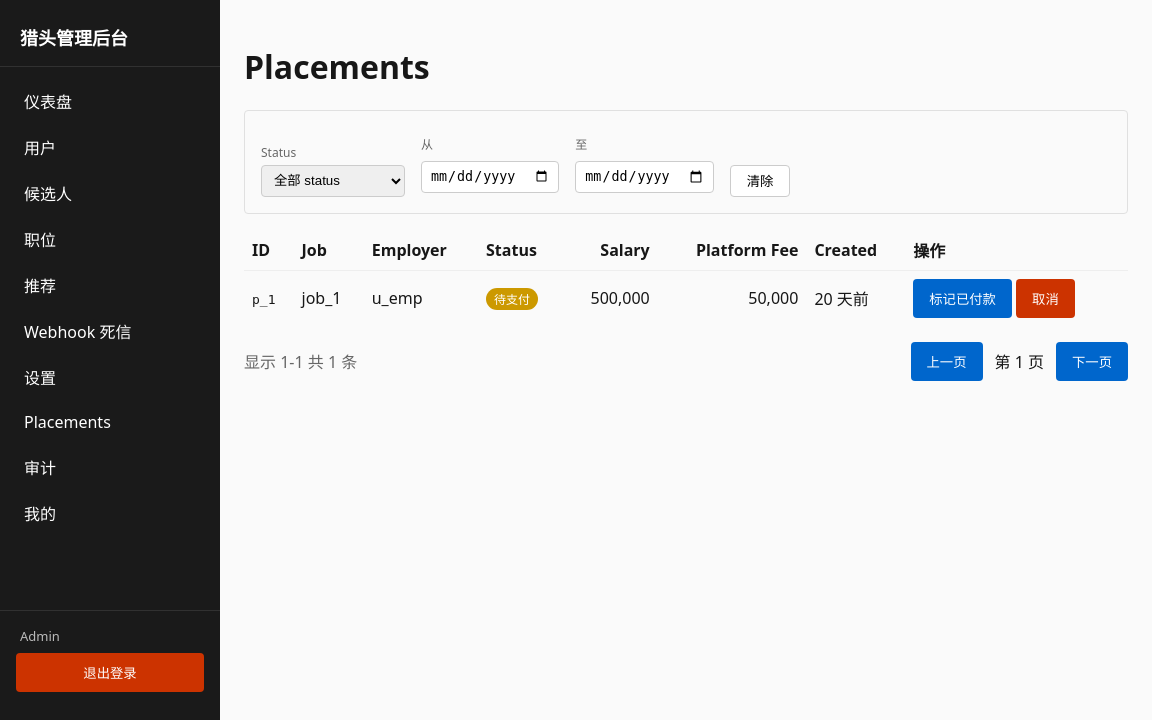
Scenario: PlacementsPage (Sub-D3) › 3. clicking 标记已付款 opens ConfirmModal
This screenshot has width=1152, height=720.
Click the button with test id "mark-paid-p_1" at (963, 298), box [913,279,1012,318]
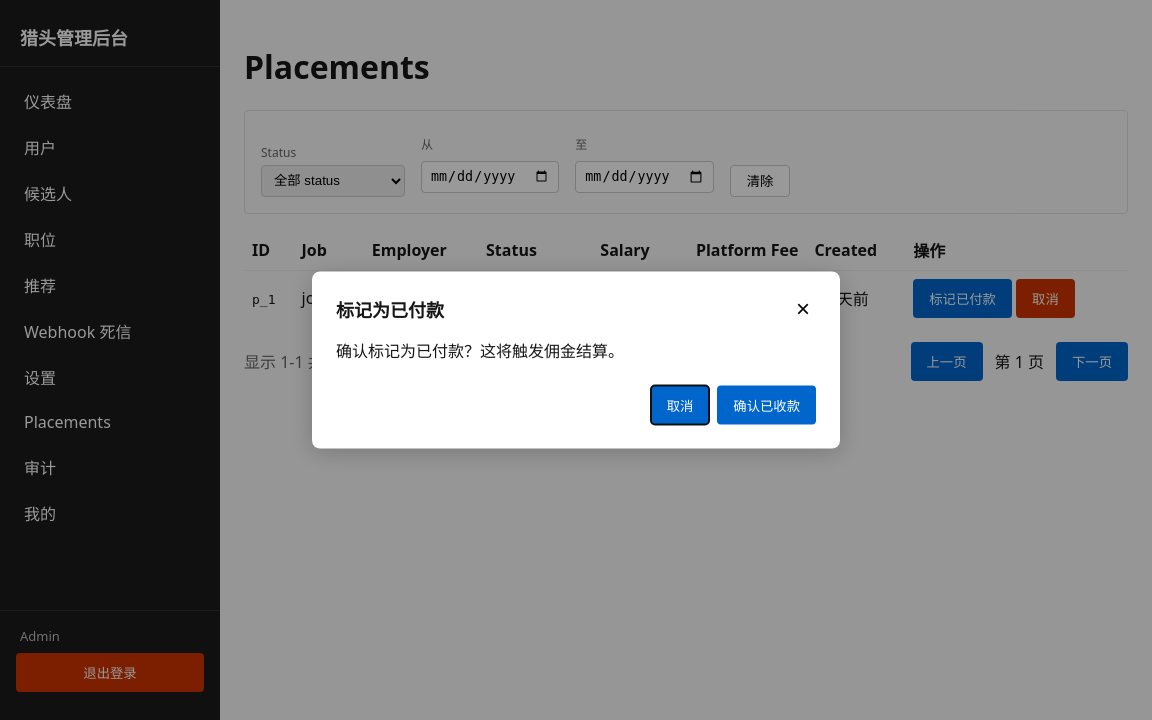
Result: the text "确认标记为已付款？这将触发佣金结算。" is shown at [336,340,624,362]
